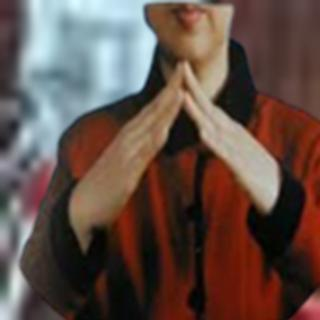HOME: (84, 58, 281, 228)
